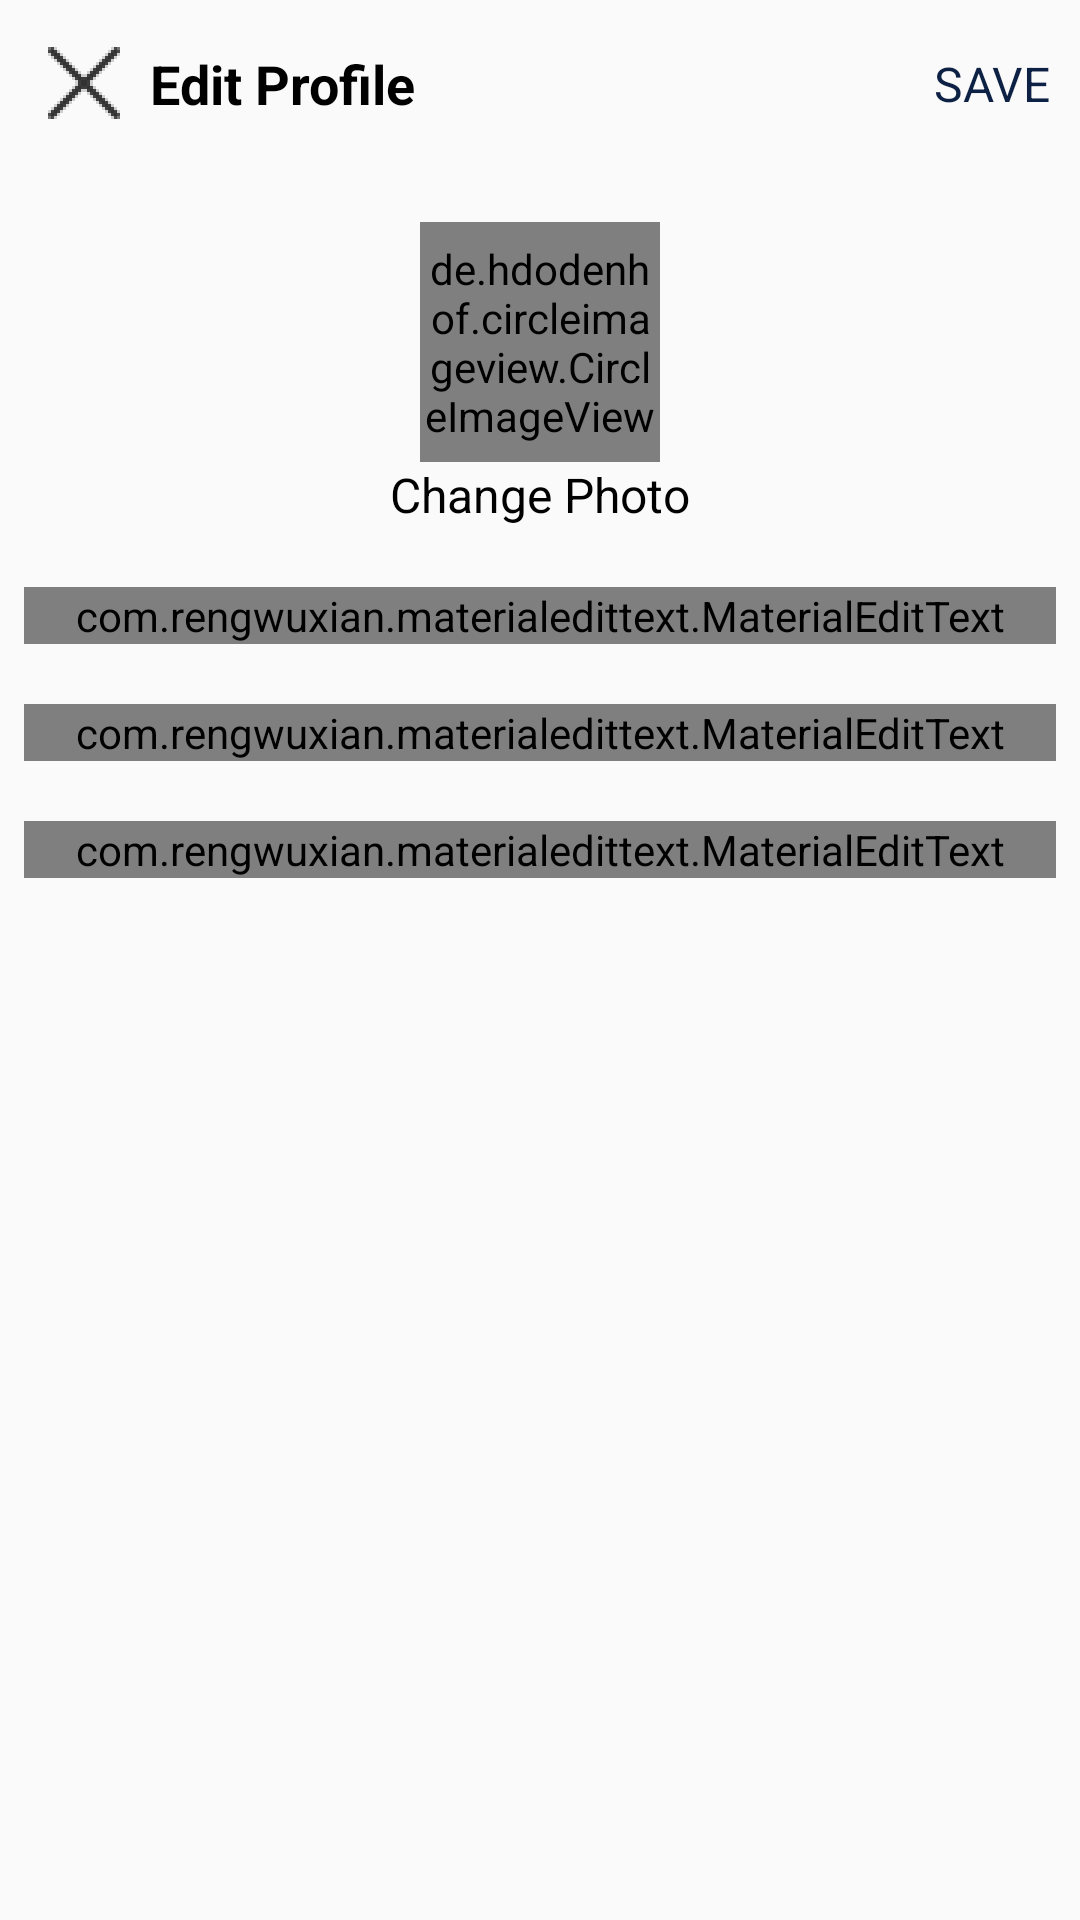

Screen size 1080 × 1920. Icon name, then its box in pixels as (x1, y1, x2, y2):
close: (48, 47, 120, 119)
